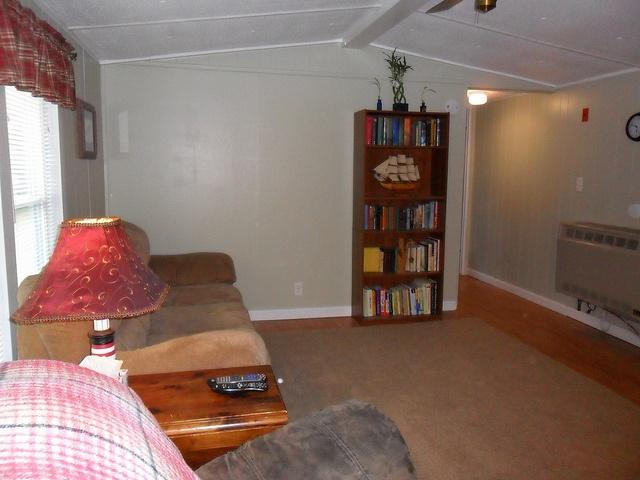Rak: (351, 108, 450, 323)
